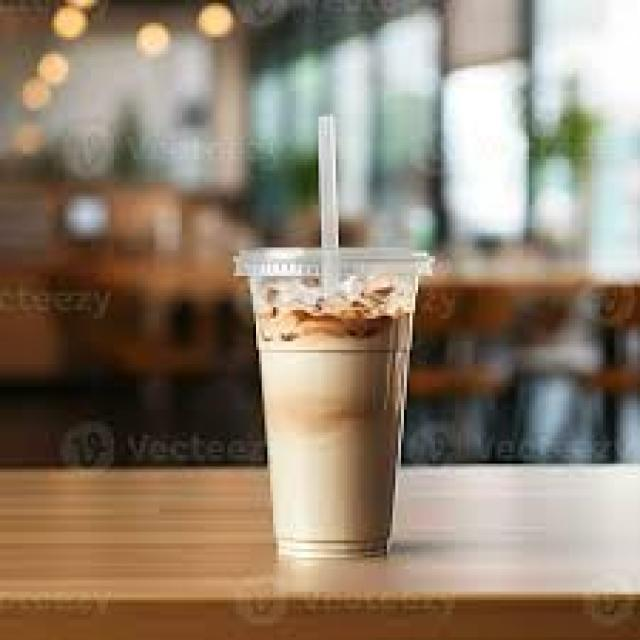bottle: (235, 249, 432, 557)
